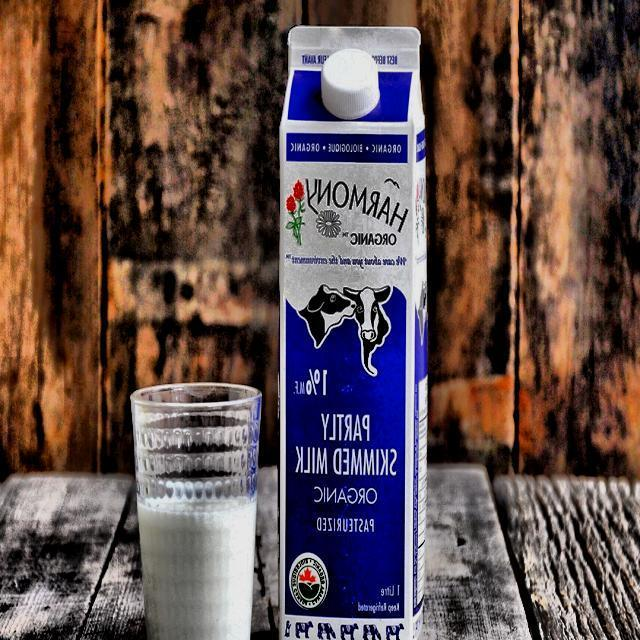cardboard: (278, 23, 430, 640)
